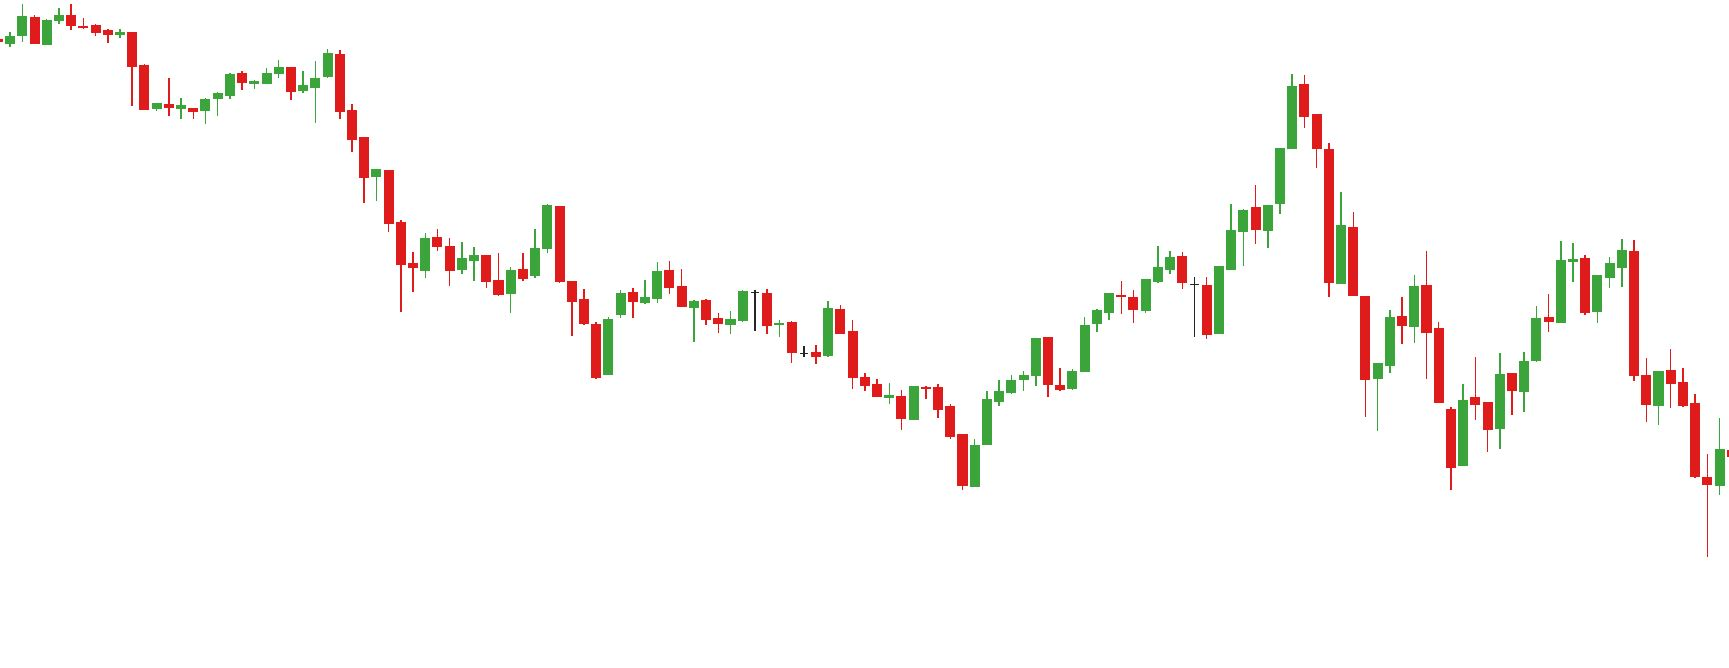buy: (1357, 328, 1470, 493), (1124, 273, 1227, 340)
sell: (418, 203, 569, 267)
